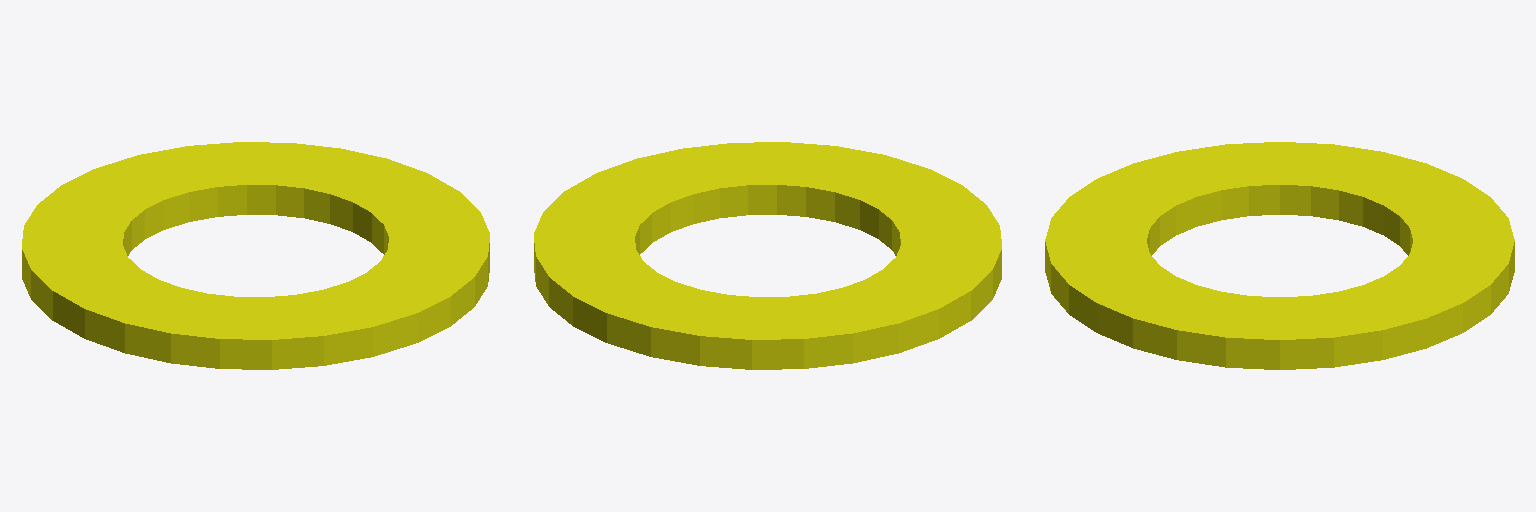
File: coin.obj
3 views of the same model, side by side, from view 1: azimuth 30°, elevation 25°; view 2: azimuth 150°, elevation 25°; view 3: azimuth 270°, elevation 25° (orthographic).
Parts seen in each view (by area): view 1: Circle01; view 2: Circle01; view 3: Circle01.
Boxes of the visible parts, x1=… form: Circle01: x1=22, y1=142, x2=489, y2=369; Circle01: x1=534, y1=142, x2=1001, y2=369; Circle01: x1=1045, y1=142, x2=1514, y2=369.
Bounding box in the file's own units: 132 × 9.27 × 132.